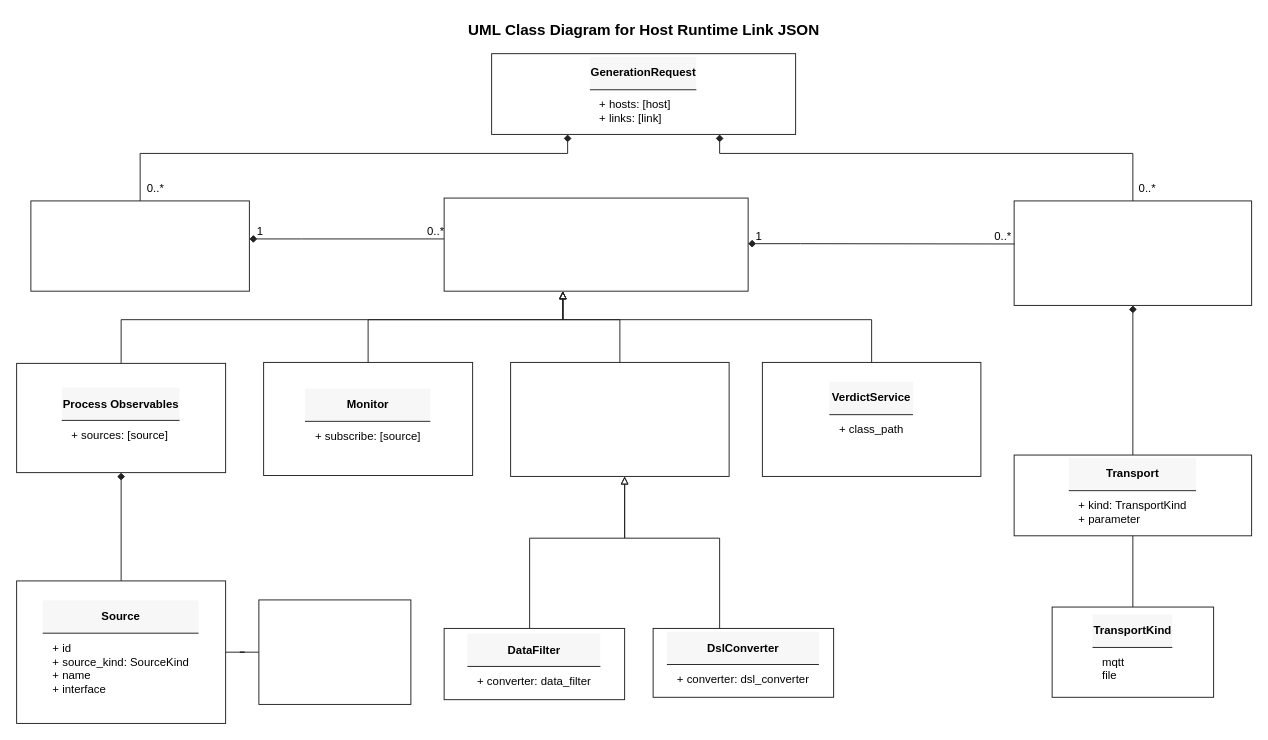
Some shapes in this 1268 by 740 pixel diagram are drawn without their labels. Here are the shapes that lost their labels. From the top down, the box of each, then its label:
(30, 200, 249, 291): Host + id + runtimes: [runtime]
(443, 197, 748, 291): Runtime + id + kind: ros2 | monitor | converter | verdict_service
(1013, 200, 1252, 305): Link + id + payload: records | dsl + transport
(510, 361, 729, 476): Converter + converter + class_path
(258, 599, 411, 704): SourceKind topic service action
